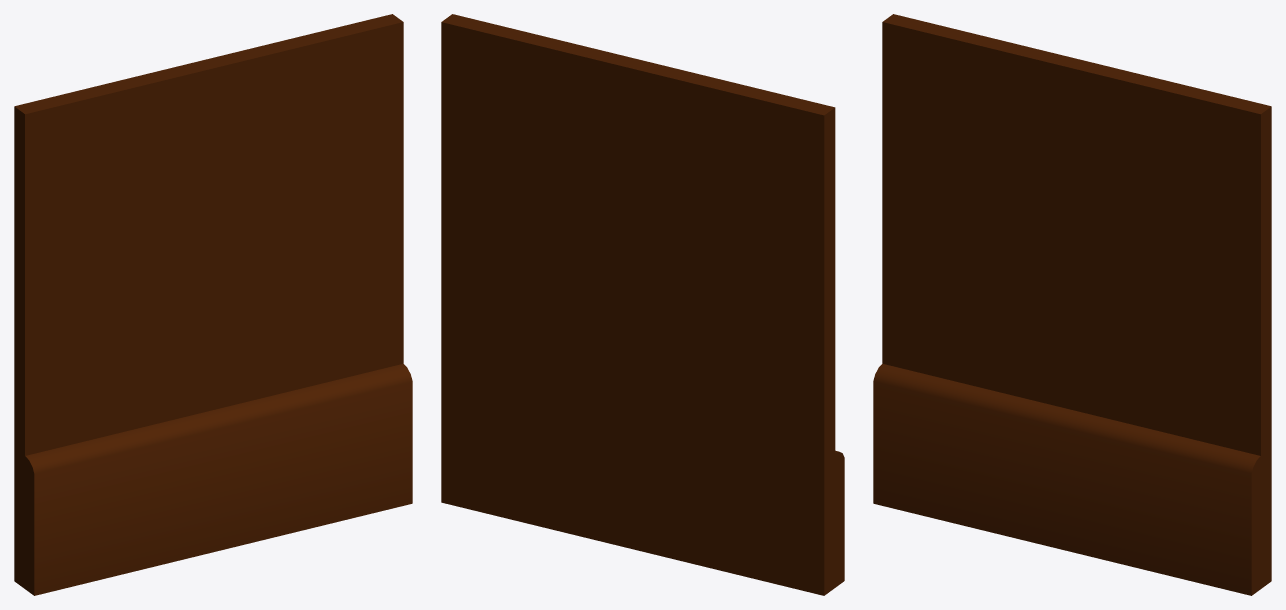
File: mur.fbx
3 views of the same model, side by side, from view 1: azimuth 30°, elevation 25°; view 2: azimuth 150°, elevation 25°; view 3: azimuth 330°, elevation 25° (orthographic).
Parts seen in each view (by area): view 1: Box117; view 2: Box117; view 3: Box117.
Boxes of the visible parts, left/top/right/bottom form: Box117: left=14, top=14, right=412, bottom=595; Box117: left=441, top=14, right=844, bottom=595; Box117: left=873, top=14, right=1271, bottom=595.
Size of the model in its own units: 161 by 193 by 14.84.
